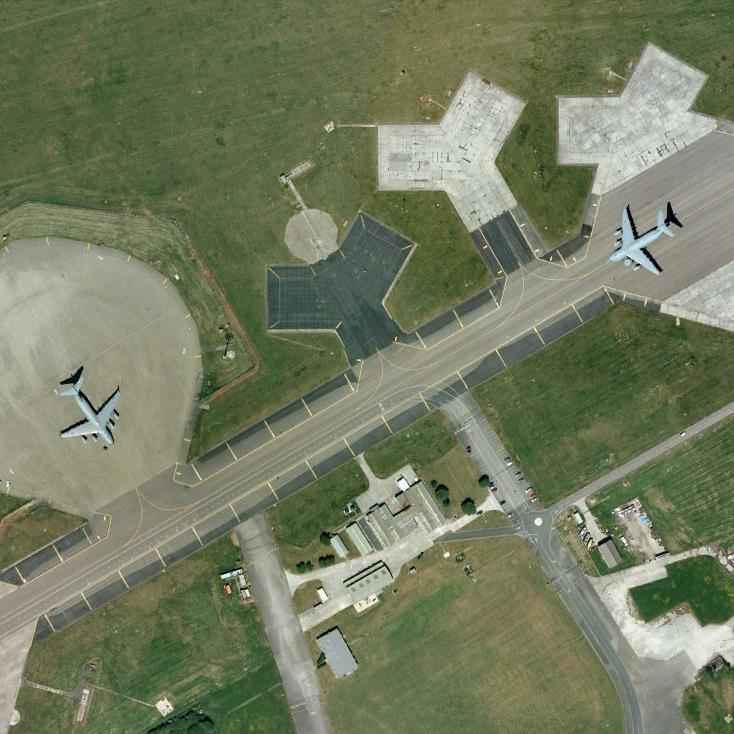A3: (55, 374, 125, 449), (608, 204, 678, 278)
